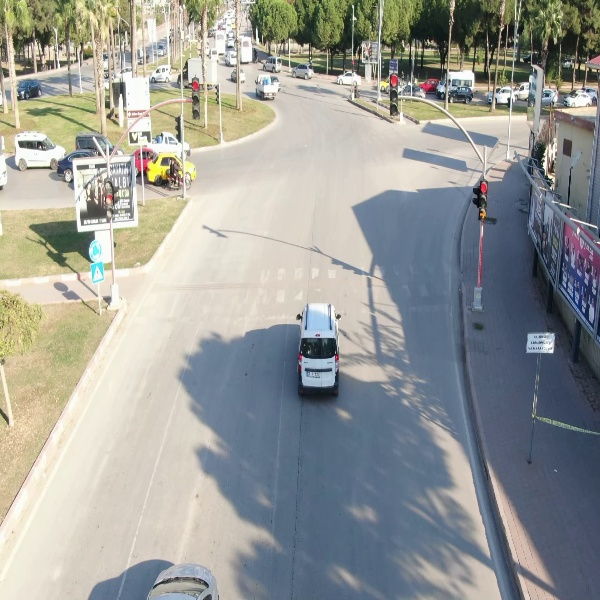car: (295, 298, 342, 394), (13, 131, 69, 170), (13, 77, 46, 101), (563, 90, 593, 108), (149, 64, 175, 83), (335, 69, 364, 86), (290, 61, 317, 79), (449, 85, 475, 103), (262, 54, 284, 75), (224, 49, 241, 69)
